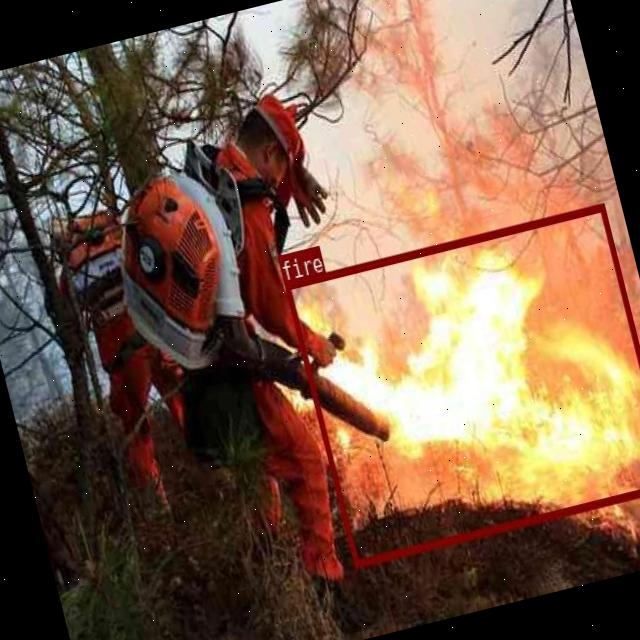fire: (283, 202, 640, 567)
